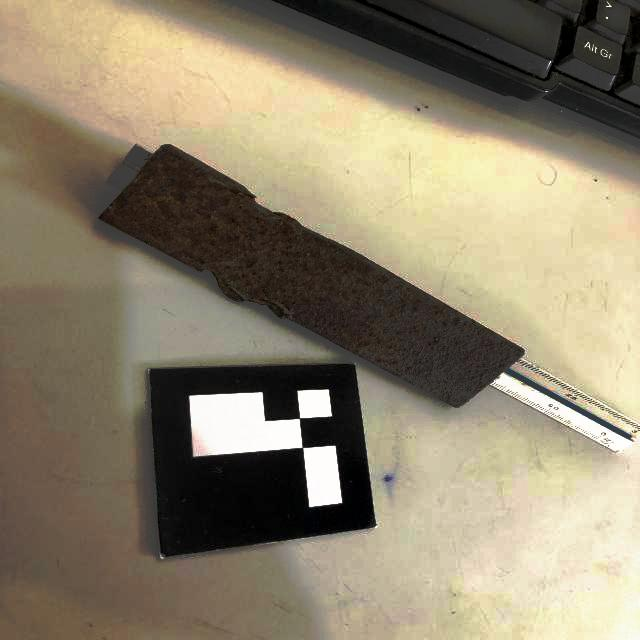Corrosion: (97, 144, 525, 408)
